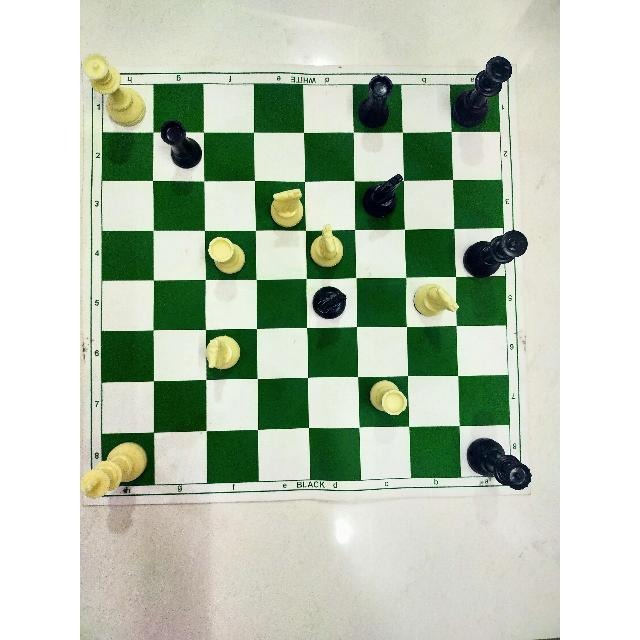black-king: (450, 53, 514, 128), (461, 227, 531, 281)
black-knight: (360, 170, 405, 219), (309, 284, 348, 320)
black-queen: (464, 435, 533, 493)
black-rook: (356, 72, 396, 132), (158, 119, 204, 171)
white-king: (80, 439, 150, 500)
white-knight: (410, 281, 461, 319), (308, 223, 346, 270), (268, 185, 304, 230), (203, 333, 243, 373)
white-queen: (80, 50, 148, 130)
white-rook: (206, 234, 246, 275), (368, 378, 409, 418)
